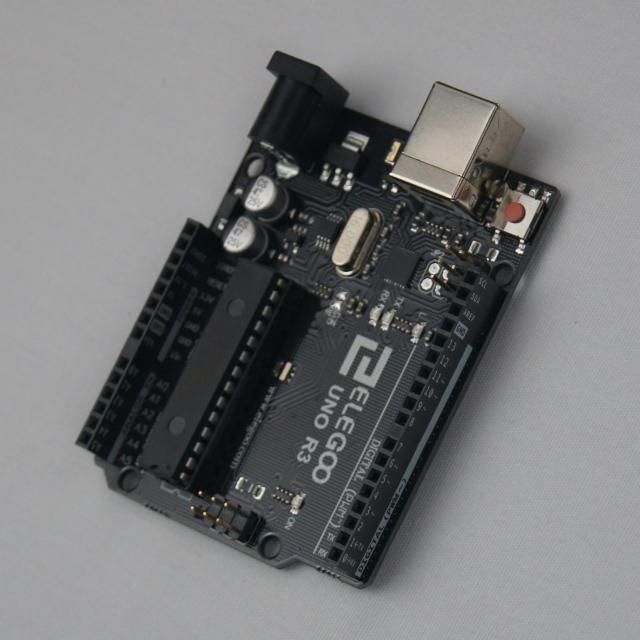Arduino Uno -Black-: (78, 53, 558, 588)
